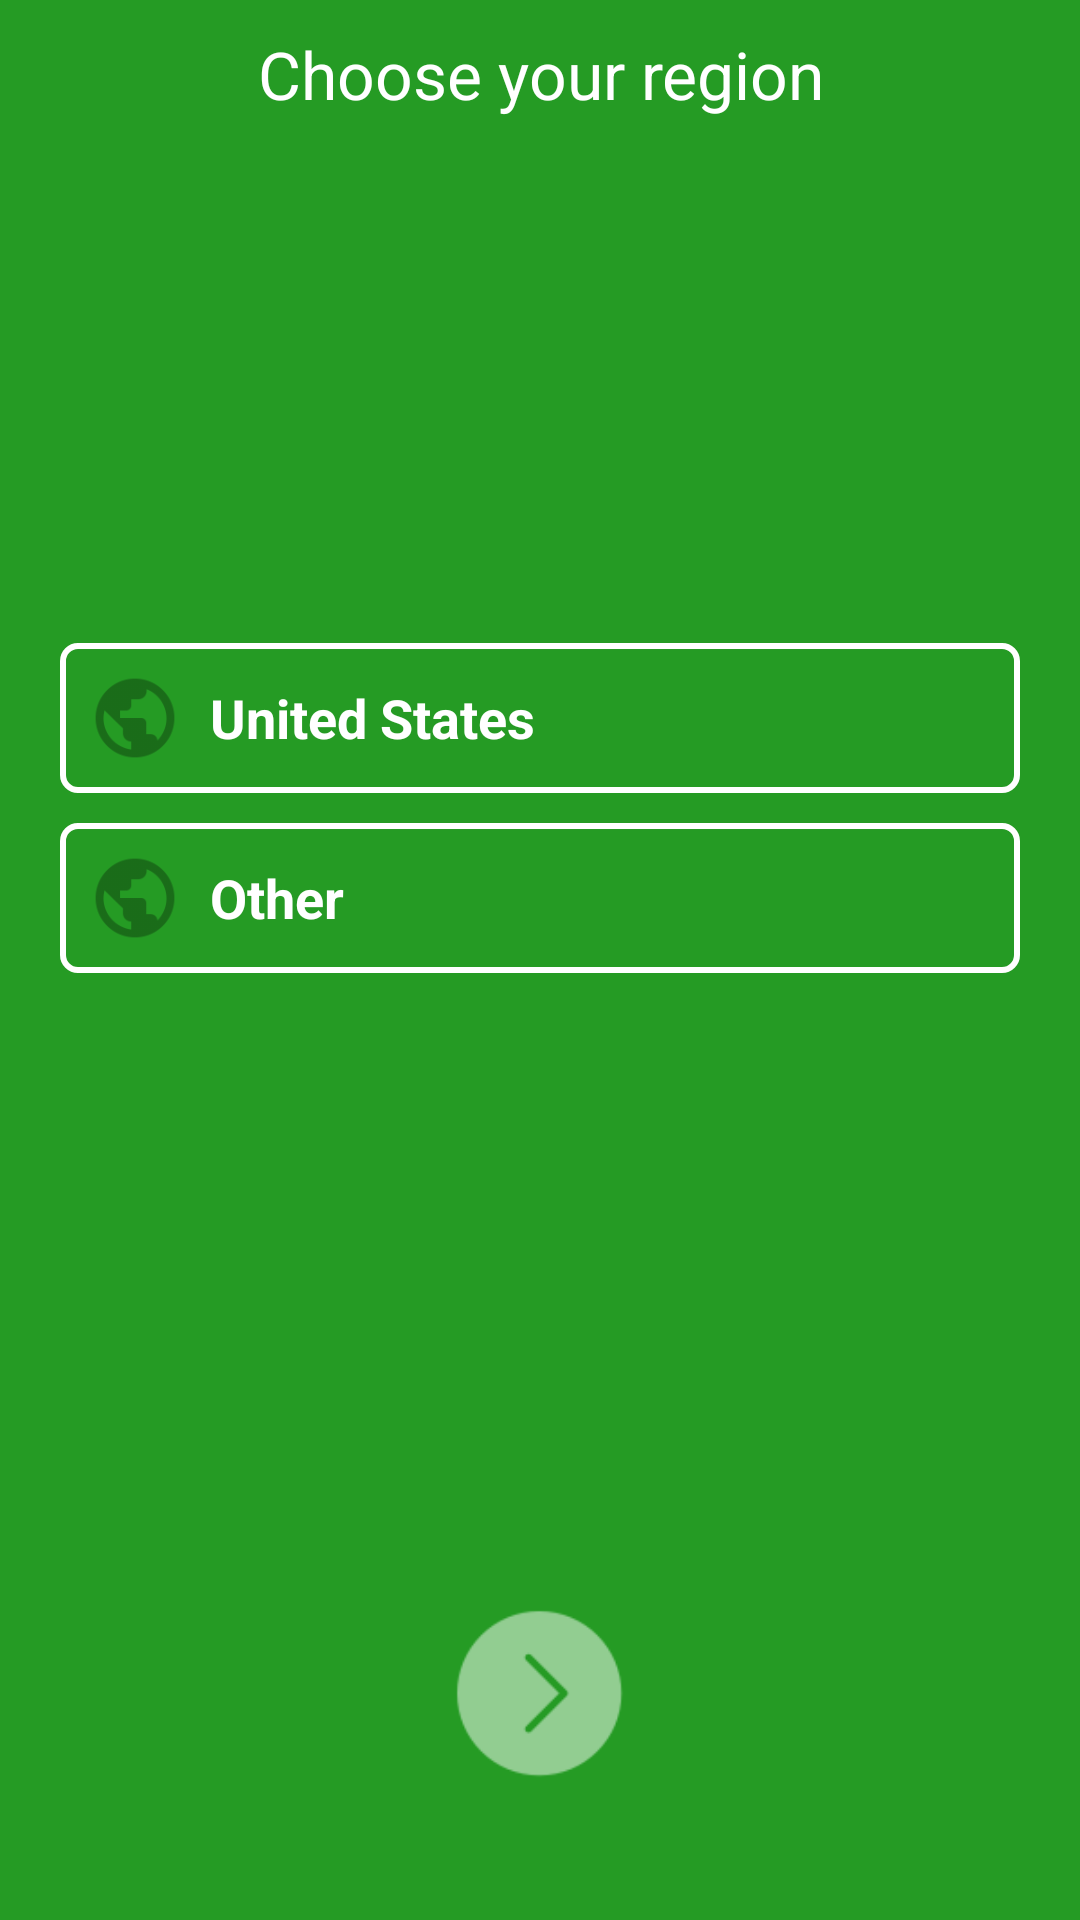

Locate icon controls on the screen. Image size 1080 × 1920, boxes as (x1=x1, y1=y1, x2=x2, y2=y2).
next page: (x1=457, y1=1611, x2=622, y2=1776)
region: (x1=96, y1=679, x2=174, y2=757), (x1=96, y1=859, x2=174, y2=937)
